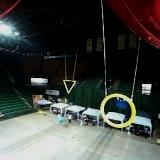Yellow_Circle_GShape: (100, 93, 136, 129)
Yellow_Triangle_Gshape: (63, 80, 76, 95)
